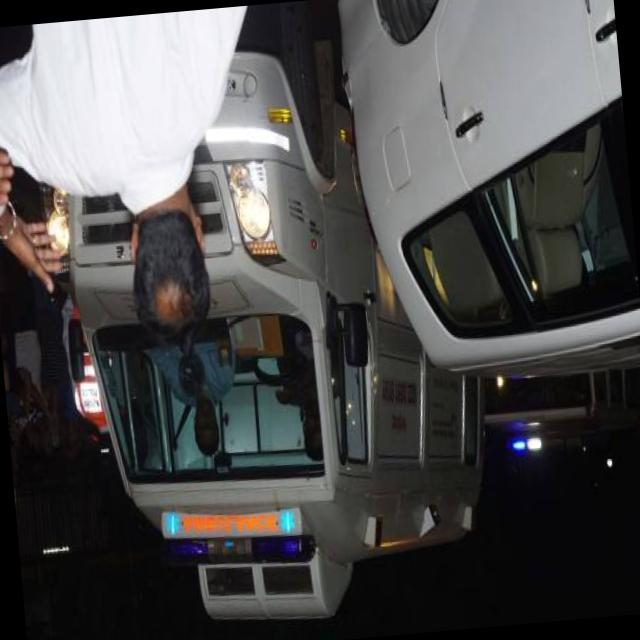ambulance: (61, 296, 508, 638)
